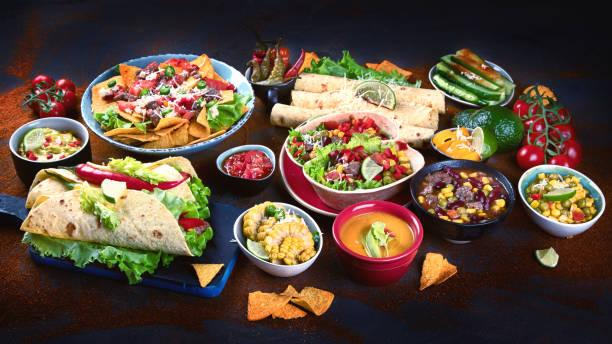Braised Crucian Carp: (16, 188, 241, 294), (81, 54, 253, 158), (286, 111, 422, 212), (409, 159, 512, 242), (231, 199, 324, 279), (516, 159, 605, 241), (430, 49, 515, 115)
